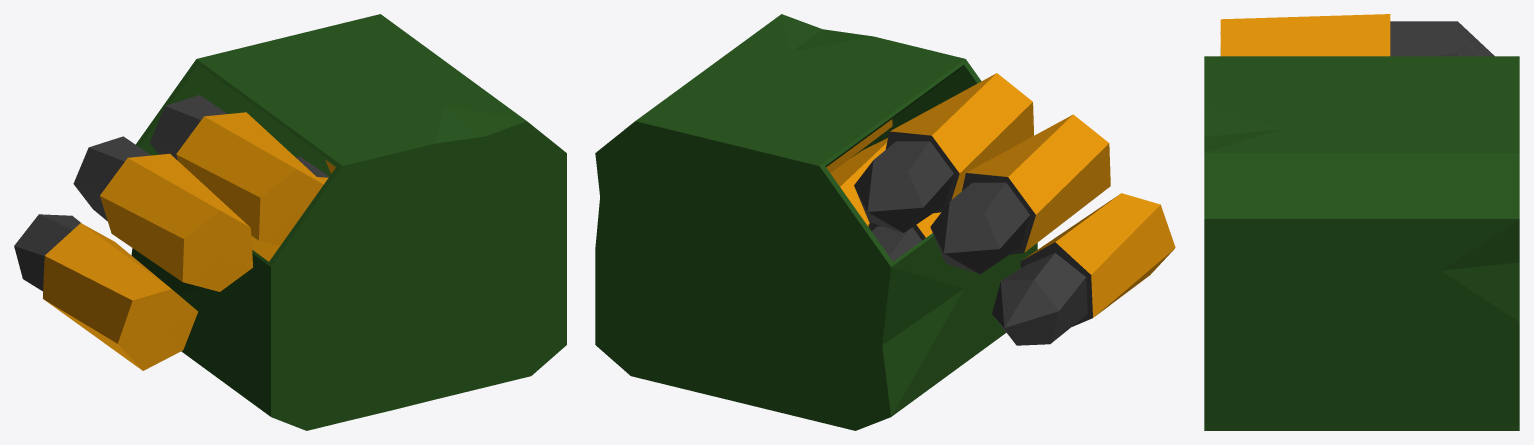
Rendered from Mag.fbx.
3 views of the same model, side by side, from view 1: azimuth 30°, elevation 25°; view 2: azimuth 150°, elevation 25°; view 3: azimuth 270°, elevation 25° (orthographic). The views are drawn at different scales.
Visible parts, largest first — view 1: Magazine, Bullat1, Bullat, Bullat2; view 2: Magazine, Bullat1, Bullat, Bullat2, Bullat5, Bullat3, Bullat6; view 3: Magazine, Bullat2, Bullat1.
Part boxes in pixels (<box>): Magazine: <box>131,14,566,430</box>; Bullat1: <box>73,136,253,291</box>; Bullat: <box>14,214,198,370</box>; Bullat2: <box>150,95,323,246</box>; Magazine: <box>595,14,1037,430</box>; Bullat1: <box>930,114,1110,274</box>; Bullat: <box>992,193,1175,345</box>; Bullat2: <box>854,73,1033,232</box>; Bullat5: <box>830,138,887,226</box>; Bullat3: <box>868,212,940,261</box>; Bullat6: <box>826,119,892,172</box>; Magazine: <box>1204,56,1519,430</box>; Bullat2: <box>1220,29,1477,56</box>; Bullat1: <box>1220,14,1494,56</box>.
Size of the model in its own units: 174 by 96.94 by 100.
